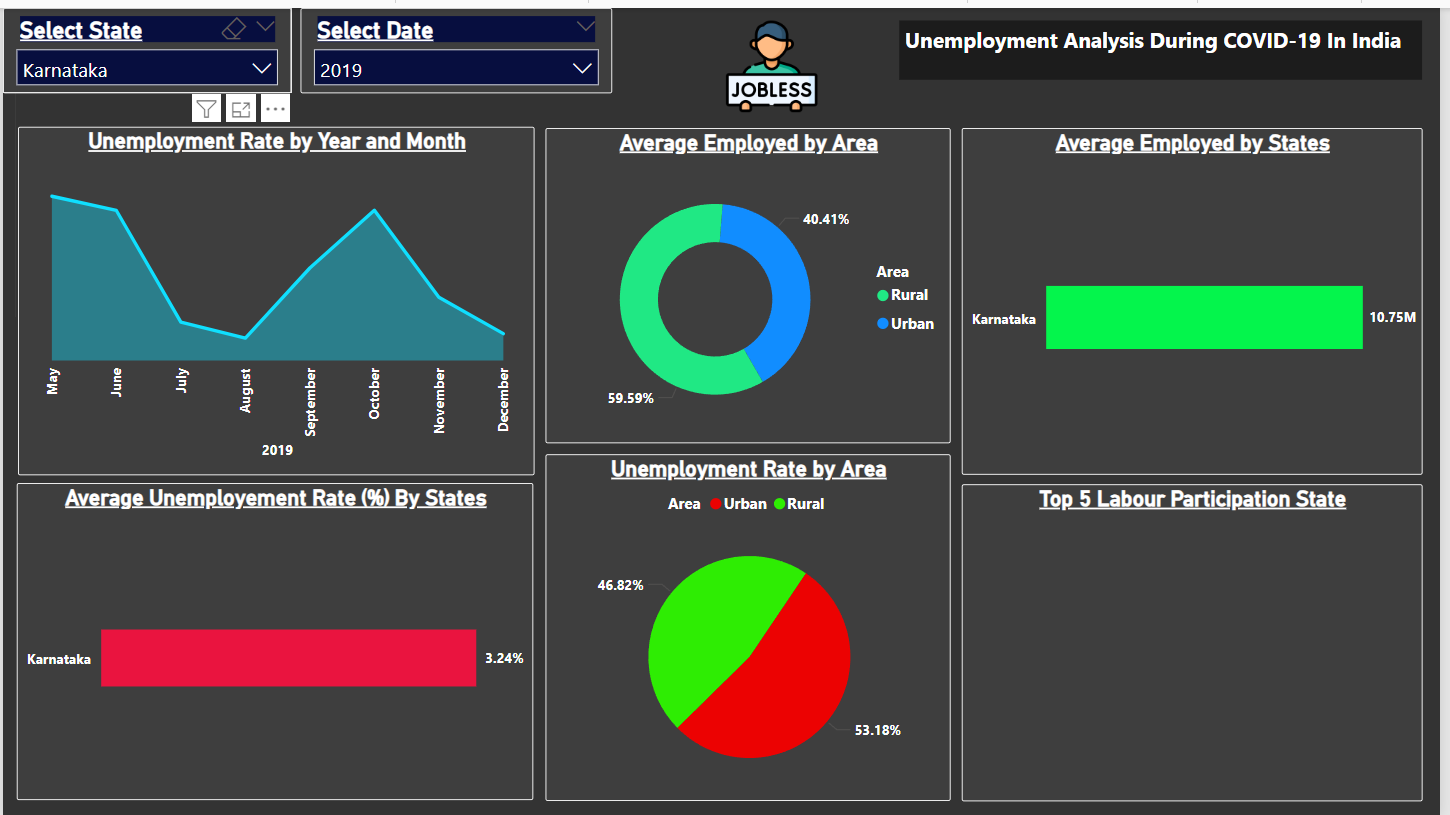

This screenshot's page, from the dashboard's own definition file:
{"tool":"powerbi","page":{"name":"Page 1","canvas":[1280,720],"ordinal":0},"visuals":[{"type":"clusteredBarChart","title":"Average Unemployement Rate (%) By States","fields":{"Category":["Unemployment in India.Region"],"Y":["Avg(Unemployment in India.Percentage)"]},"box":[12.5,422.5,460,282.5],"z":0},{"type":"stackedAreaChart","title":"Unemployment Rate by Year and Month","fields":{"Category":["Unemployment in India. Date.Variation.Date Hierarchy.Year","Unemployment in India. Date.Variation.Date Hierarchy.Month"],"Y":["Sum(Unemployment in India. Estimated Unemployment Rate (%))"]},"box":[12.9,105.7,460,310],"z":1000},{"type":"pieChart","title":"Unemployment Rate by Area","fields":{"Category":["Unemployment in India.Area"],"Y":["Sum(Unemployment in India. Estimated Unemployment Rate (%))"]},"box":[482.6,396.9,360.7,308.8],"z":2000},{"type":"clusteredBarChart","title":"Top 5 Labour Participation State","fields":{"Category":["Unemployment in India.Region"],"Y":["Sum(Unemployment in India. Estimated Labour Participation Rate (%))"]},"box":[853.8,423.8,410,282.5],"z":3000},{"type":"barChart","title":"Average Employed by States","fields":{"Category":["Unemployment in India.Region"],"Y":["Avg(Unemployment in India. Estimated Employed)"]},"box":[854.3,107.1,410,308.6],"z":4000},{"type":"donutChart","title":"Average Employed by Area","fields":{"Category":["Unemployment in India.Area"],"Y":["Sum(Unemployment in India. Estimated Employed)"]},"box":[482.6,107.4,360.7,281.1],"z":5000},{"type":"textbox","box":[798.7,10.9,465.7,53.1],"z":7000},{"type":"image","box":[639.4,0,91.7,103.8],"z":8000},{"type":"slicer","fields":{"Values":["Unemployment in India.Region"]},"box":[0,0,257,76],"z":12000},{"type":"slicer","fields":{"Values":["Unemployment in India. Date.Variation.Date Hierarchy.Year","Unemployment in India. Date.Variation.Date Hierarchy.Month"]},"box":[265.4,0,277.5,76],"z":13000}]}

Visuals, with their boxes in screenshot pixels (x1, y1, x2, y2):
"Average Unemployement Rate (%) By States" clusteredBarChart: <bbox>0, 489, 521, 814</bbox>
"Unemployment Rate by Year and Month" stackedAreaChart: <bbox>0, 122, 521, 481</bbox>
"Unemployment Rate by Area" pieChart: <bbox>533, 460, 950, 814</bbox>
"Top 5 Labour Participation State" clusteredBarChart: <bbox>962, 491, 1437, 814</bbox>
"Average Employed by States" barChart: <bbox>963, 124, 1438, 481</bbox>
"Average Employed by Area" donutChart: <bbox>533, 124, 950, 450</bbox>
textbox: <bbox>899, 13, 1438, 74</bbox>
image: <bbox>714, 0, 820, 120</bbox>
slicer - Unemployment in India.Region: <bbox>0, 0, 271, 88</bbox>
slicer - Unemployment in India. Date.Variation.Date Hierarchy.Year x Unemployment in India. Date.Variation.Date Hierarchy.Month: <bbox>281, 0, 602, 88</bbox>
